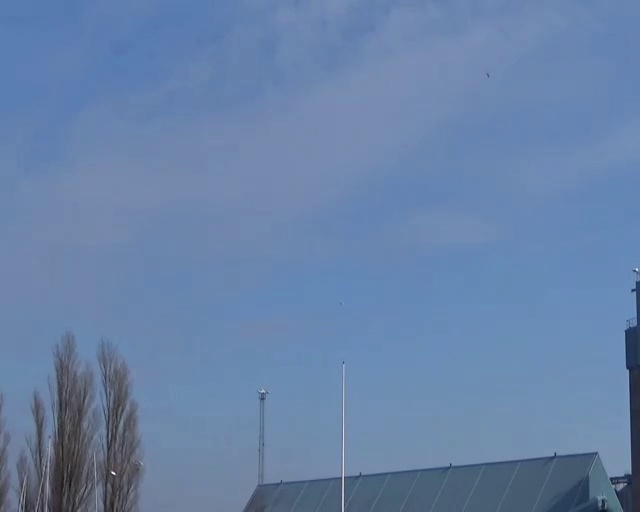BIRD: (483, 69, 492, 82)
